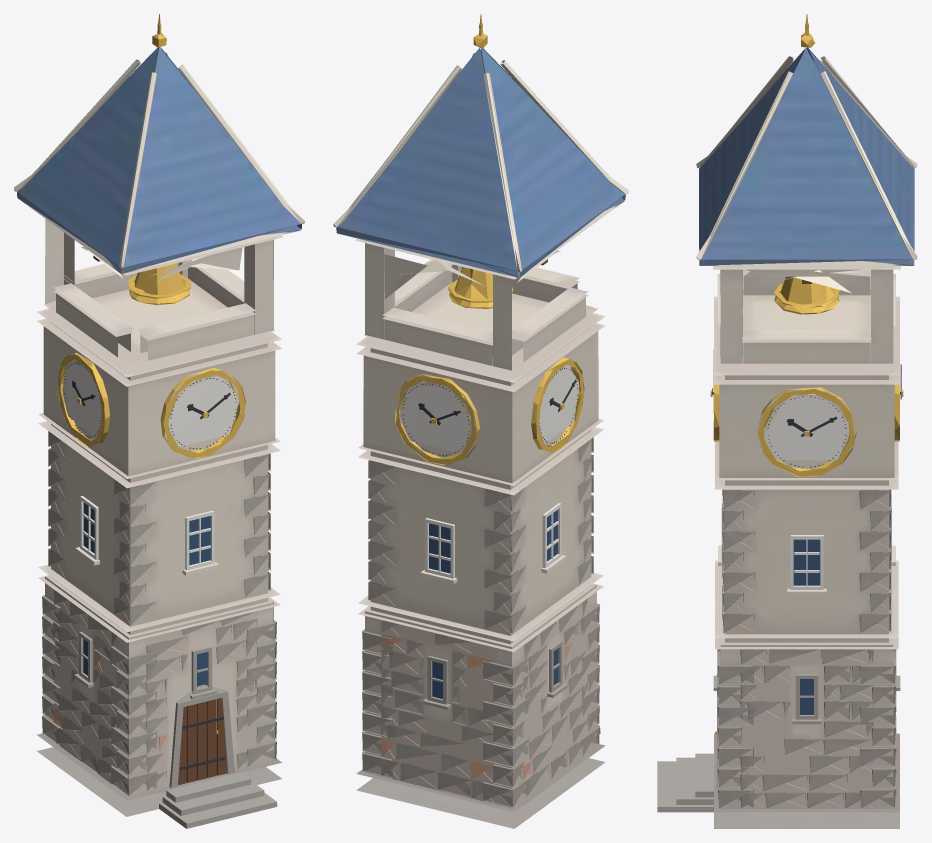
Rendered from clocktower.glb.
The picture shows the model from 3 angles, left to right: view 1: azimuth 30°, elevation 25°; view 2: azimuth 150°, elevation 25°; view 3: azimuth 270°, elevation 25°; orthographic projection. The views are drawn at different scales.
Visible parts, largest first — view 1: clock-tower_body, clock-tower_details, clock-tower_bell, clock-tower_dial_dots; view 2: clock-tower_body, clock-tower_details, clock-tower_bell; view 3: clock-tower_body, clock-tower_details, clock-tower_bell.
Boxes of the visible parts, <box> form: clock-tower_body: <box>17,47,301,816</box>; clock-tower_details: <box>14,52,304,828</box>; clock-tower_bell: <box>57,14,245,770</box>; clock-tower_dial_dots: <box>63,362,236,449</box>; clock-tower_body: <box>336,47,625,828</box>; clock-tower_details: <box>333,53,628,733</box>; clock-tower_bell: <box>395,14,584,465</box>; clock-tower_body: <box>699,47,914,828</box>; clock-tower_details: <box>657,56,917,812</box>; clock-tower_bell: <box>710,14,903,734</box>.
Bounding box in the file's own units: 4.06 × 15.8 × 4.81.
8 materials, 1 textured.
